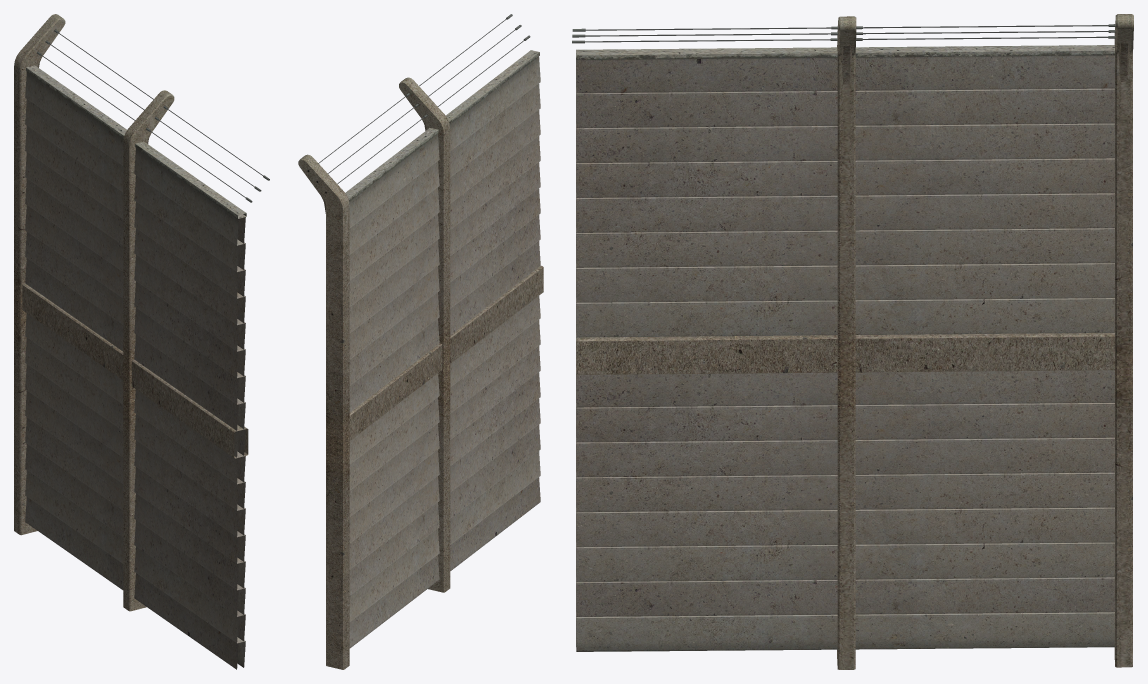
File: object_29.018_lev2.007_lev3.glb
3 views of the same model, side by side, from view 1: azimuth 30°, elevation 25°; view 2: azimuth 150°, elevation 25°; view 3: azimuth 270°, elevation 25° (orthographic). The views are drawn at different scales.
Parts seen in each view (by area): view 1: object_29.018_lev2.007_lev3; view 2: object_29.018_lev2.007_lev3; view 3: object_29.018_lev2.007_lev3.
Boxes of the visible parts, box(x1,y1,x2,y2) form: object_29.018_lev2.007_lev3: box(14, 14, 269, 669); object_29.018_lev2.007_lev3: box(298, 14, 543, 669); object_29.018_lev2.007_lev3: box(572, 14, 1133, 669).
Size of the model in its own units: 1.6 by 15.45 by 11.8.
1 material, 1 textured.
